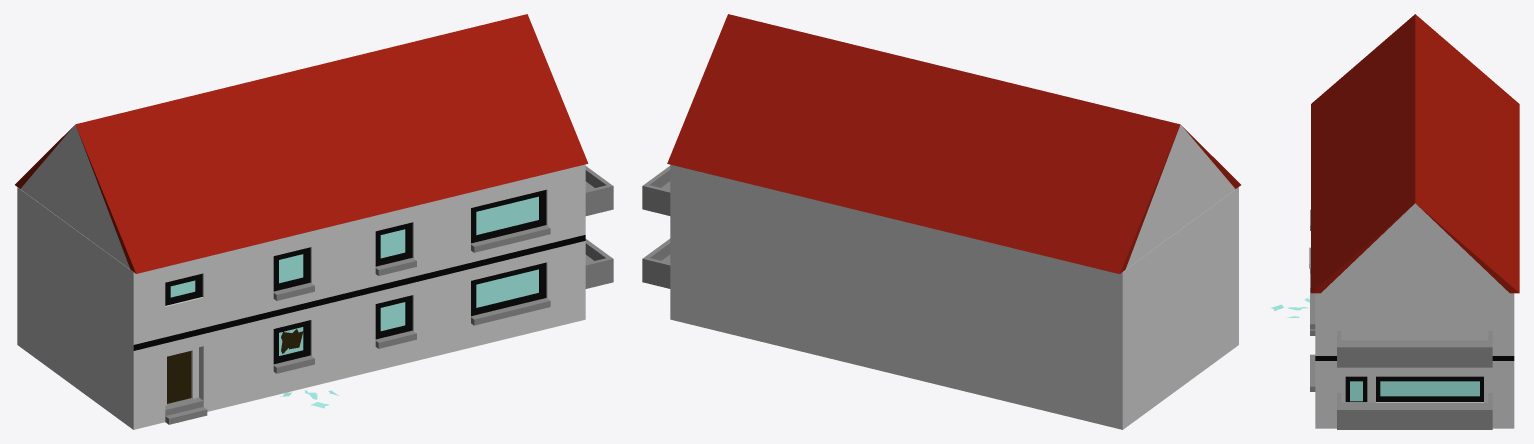
The model's file is House_Einbruch.fbx.
3 renders of one model, left to right at view 1: azimuth 30°, elevation 25°; view 2: azimuth 150°, elevation 25°; view 3: azimuth 270°, elevation 25°, orthographic. The views are drawn at different scales.
Visible parts, largest first — view 1: House; view 2: House; view 3: House.
Part boxes in pixels (x1,y1,x2,y2): House: (15, 14, 613, 429); House: (642, 14, 1240, 429); House: (1271, 14, 1519, 429).
Bounding box in the file's own units: 98.05 × 50.03 × 50.17.
